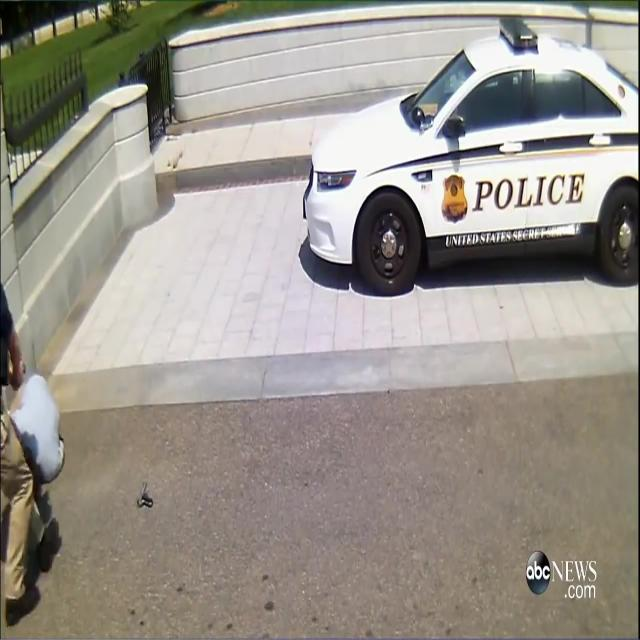Weapon: (133, 472, 164, 526)
